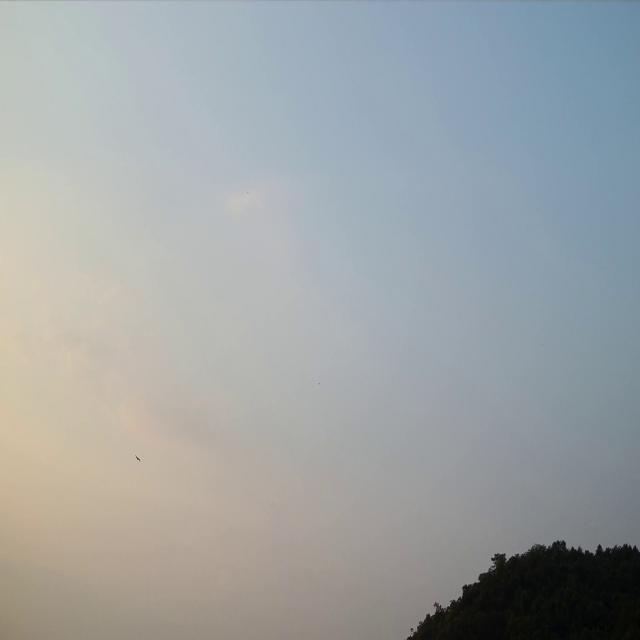drone: (135, 453, 141, 462)
